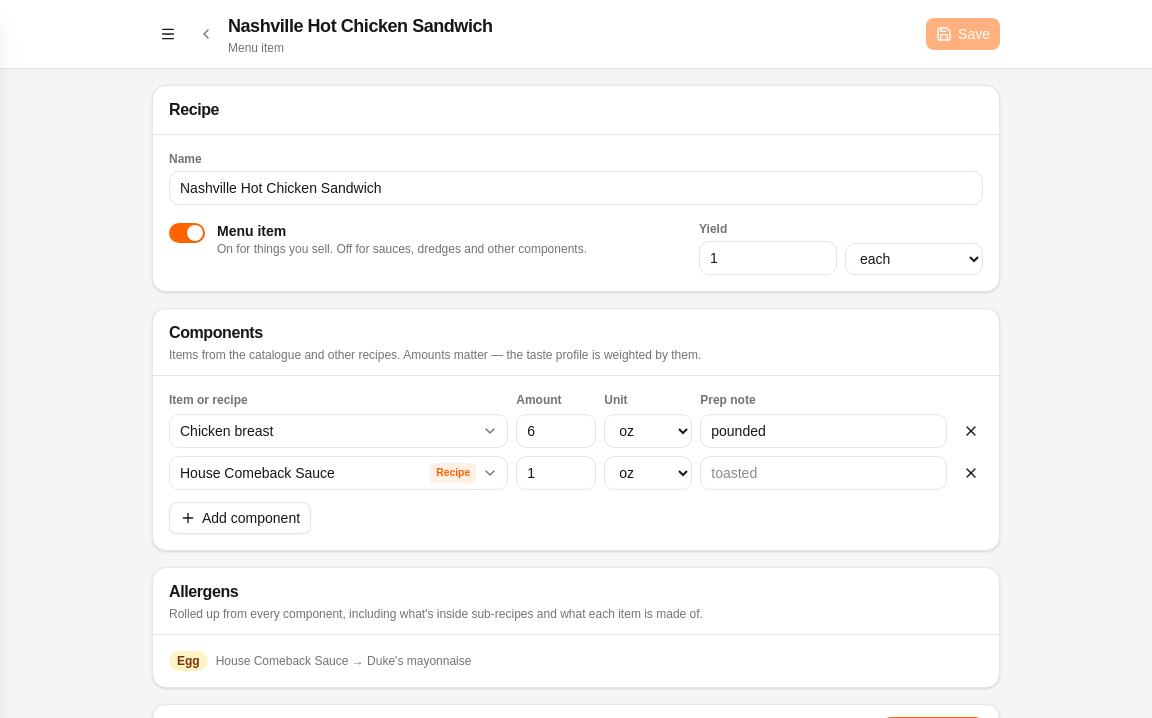
Test case: RecipeBuilder › shows what went wrong when a save is refused
Clear the field named "Component 1 amount" at (556, 431), box [516,414,596,448]
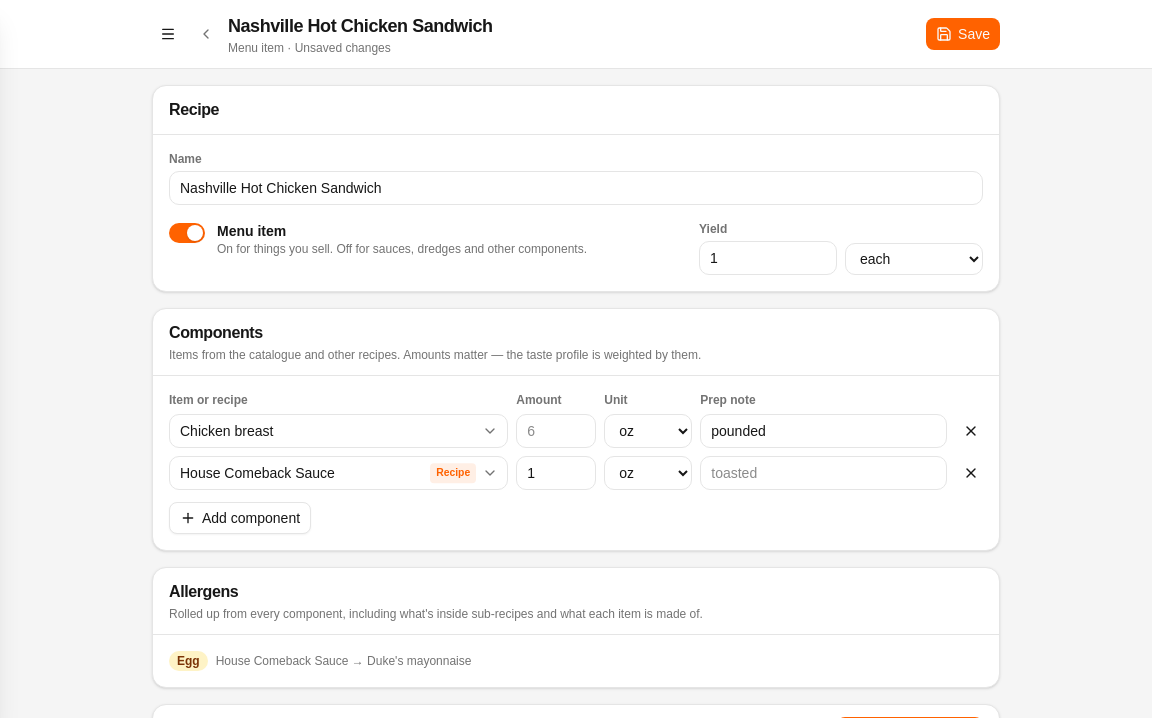
Click the button "Save" at (963, 34), box [926,18,1000,50]
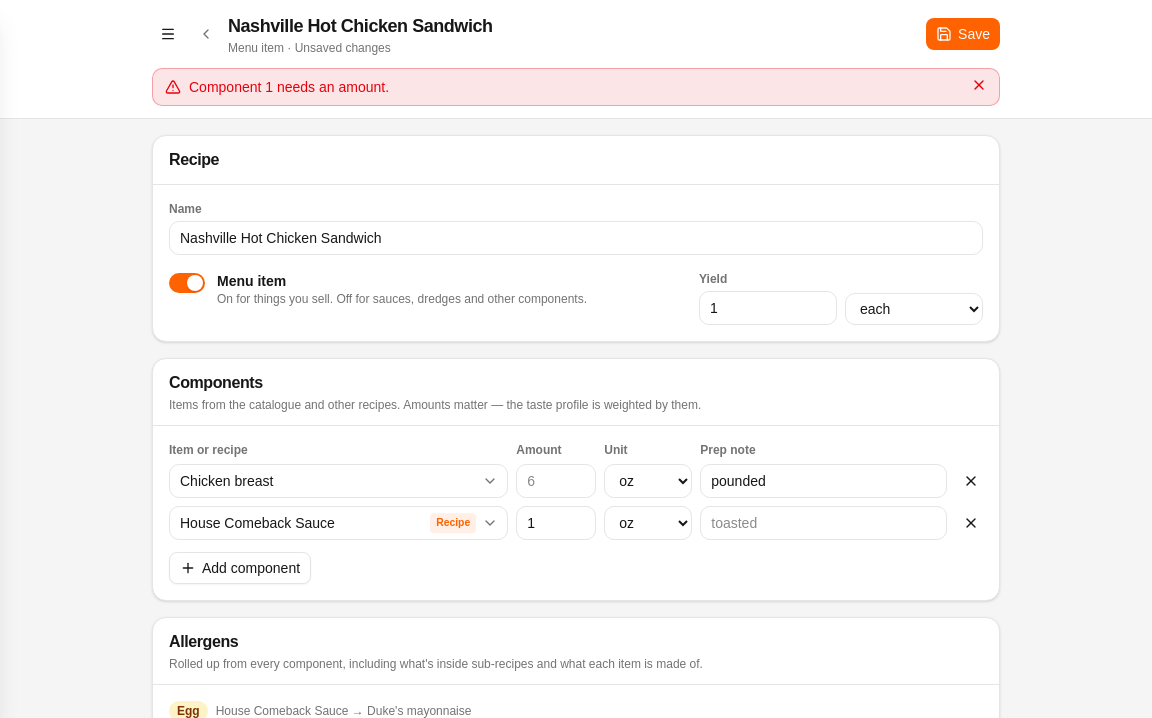
Expected: the message reads "Component 1 needs an amount.", [189,79,389,95]
